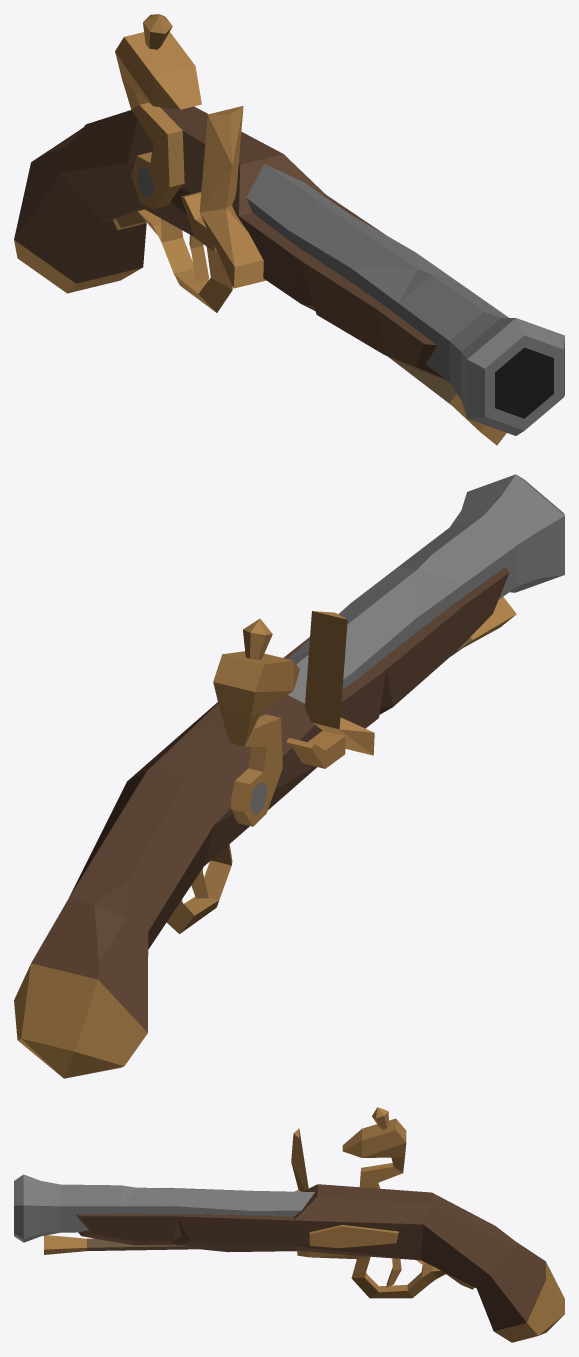
The model's file is SM_Wep_MusketPistol_03_Separate.glb.
3 views of the same model, one above another, from view 1: azimuth 30°, elevation 25°; view 2: azimuth 150°, elevation 25°; view 3: azimuth 270°, elevation 25° (orthographic). The views are drawn at different scales.
Parts seen in each view (by area): view 1: SM_Wep_MusketPistol_03_Trigger; view 2: SM_Wep_MusketPistol_03_Trigger; view 3: SM_Wep_MusketPistol_03_Trigger.
Boxes of the visible parts, box(x1,y1,x2,y2) form: SM_Wep_MusketPistol_03_Trigger: box(14, 14, 564, 445); SM_Wep_MusketPistol_03_Trigger: box(14, 474, 564, 1078); SM_Wep_MusketPistol_03_Trigger: box(14, 1107, 564, 1342).
Bounding box in the file's own units: 0.000955 × 0.00246 × 0.00574.
